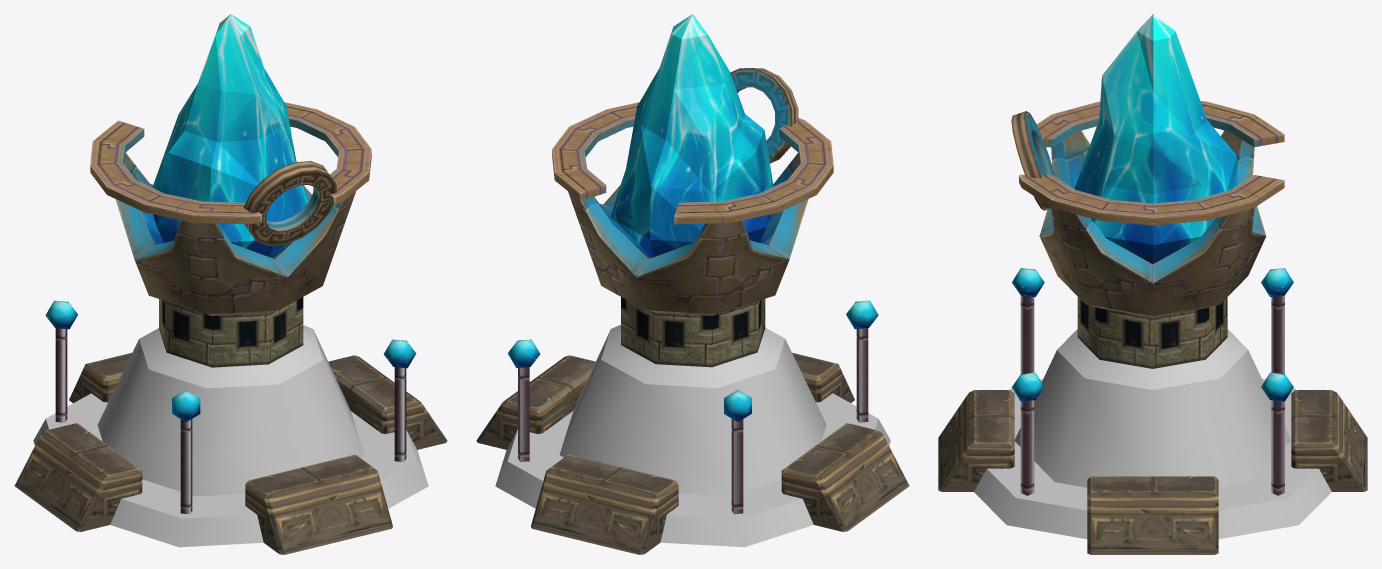
The model's file is The main city_031_LV04.FBX.
3 renders of one model, left to right at view 1: azimuth 30°, elevation 25°; view 2: azimuth 150°, elevation 25°; view 3: azimuth 270°, elevation 25°, orthographic.
Visible parts, largest first — view 1: The main city_031_LV04; view 2: The main city_031_LV04; view 3: The main city_031_LV04.
Boxes of the visible parts, <box> form: The main city_031_LV04: <box>14,14,447,554</box>; The main city_031_LV04: <box>476,14,909,554</box>; The main city_031_LV04: <box>938,14,1367,554</box>.
Bounding box in the file's own units: 89.99 × 104 × 89.99.
